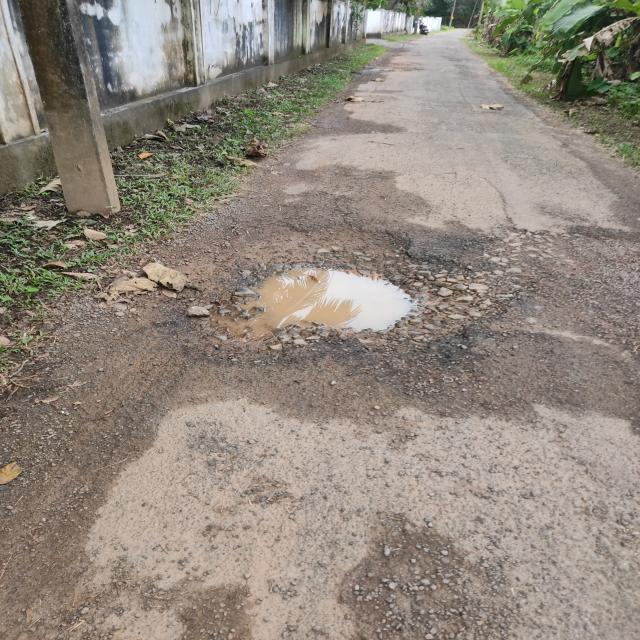potholes: (190, 237, 507, 379)
